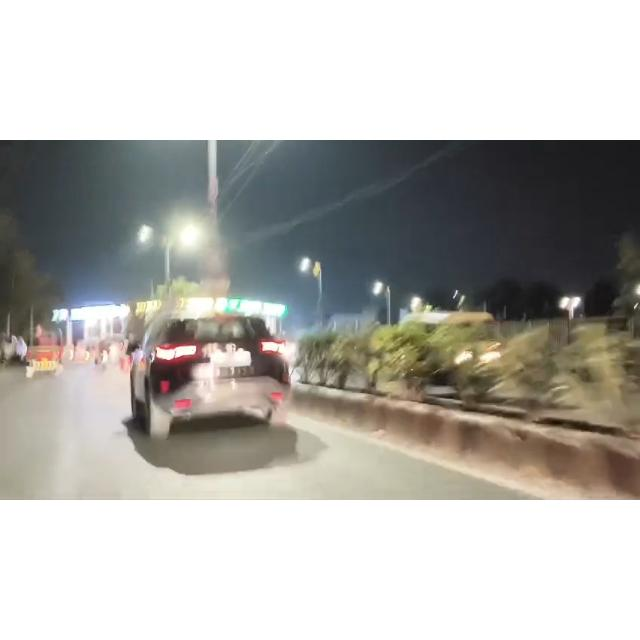auto: (396, 305, 509, 401), (22, 321, 73, 379)
car: (125, 303, 293, 441)
